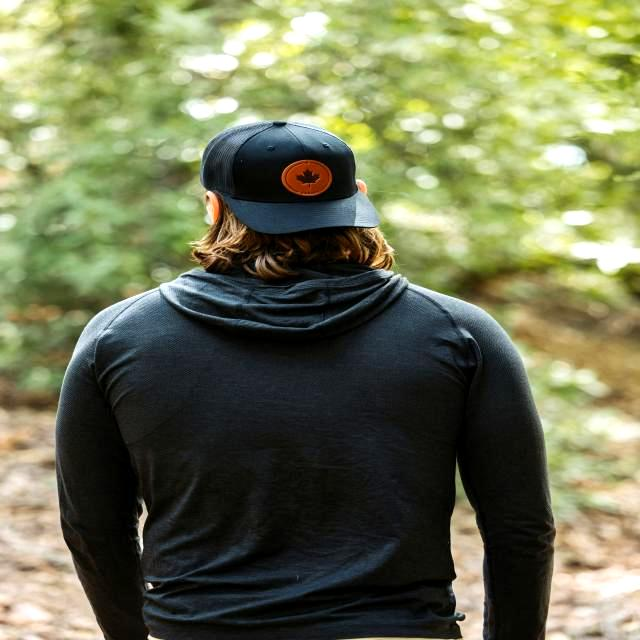no_hard_hat: (201, 121, 379, 234)
person: (56, 122, 555, 640)
